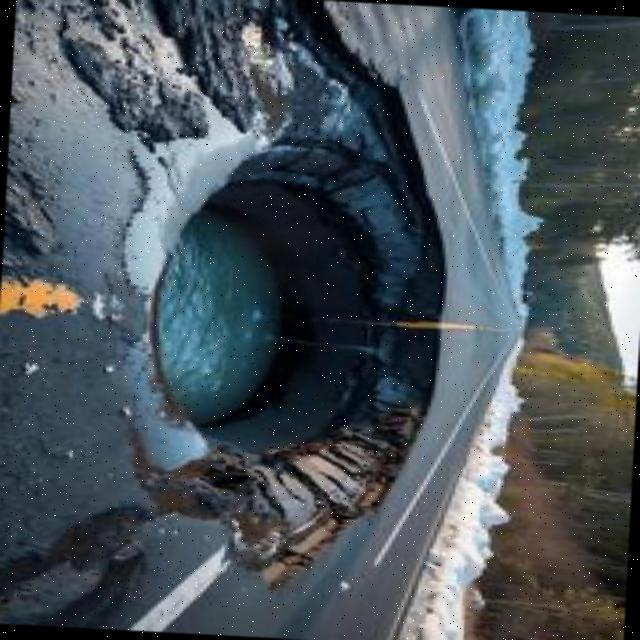road collapse: (0, 0, 538, 601)
